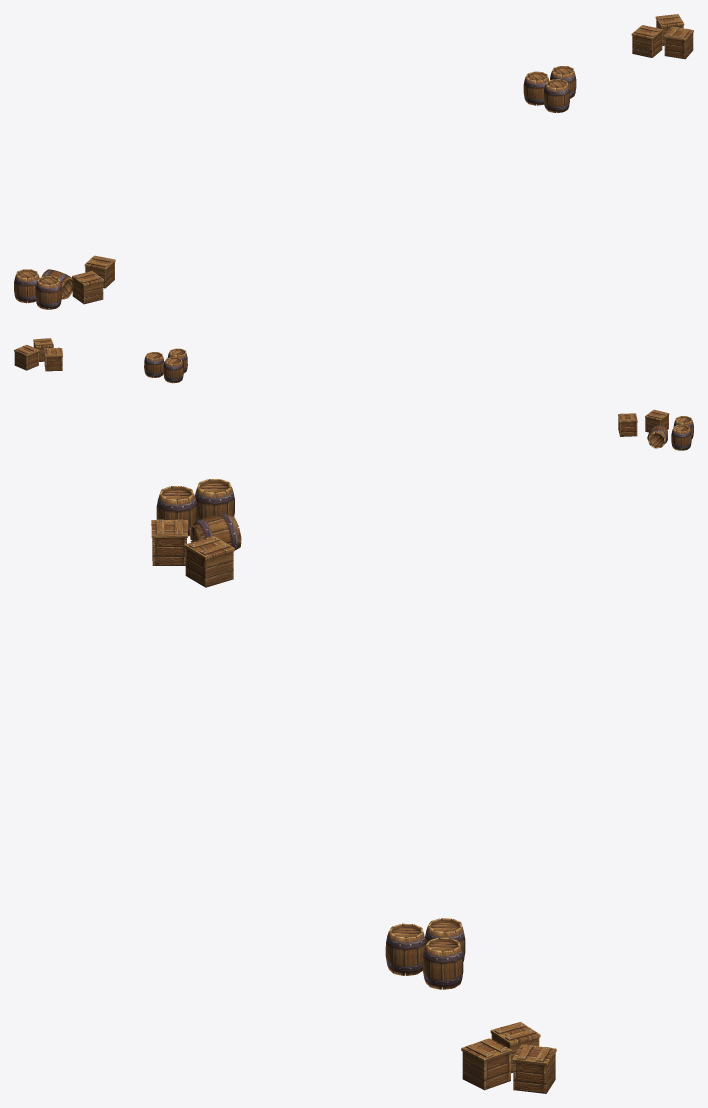
Rendered from yanshi16_wujian2_1.fbx.
3 views of the same model, one above another, from view 1: azimuth 30°, elevation 25°; view 2: azimuth 150°, elevation 25°; view 3: azimuth 270°, elevation 25° (orthographic). The views are drawn at different scales.
Visible parts, largest first — view 1: yanshi16_wujian2_1; view 2: yanshi16_wujian2_1; view 3: yanshi16_wujian2_1.
Boxes of the visible parts, x1,y1,x2,y2 form: yanshi16_wujian2_1: [14, 14, 693, 309]; yanshi16_wujian2_1: [14, 338, 693, 450]; yanshi16_wujian2_1: [151, 479, 556, 1093].
Size of the model in its own units: 3470 by 131 by 1027.
